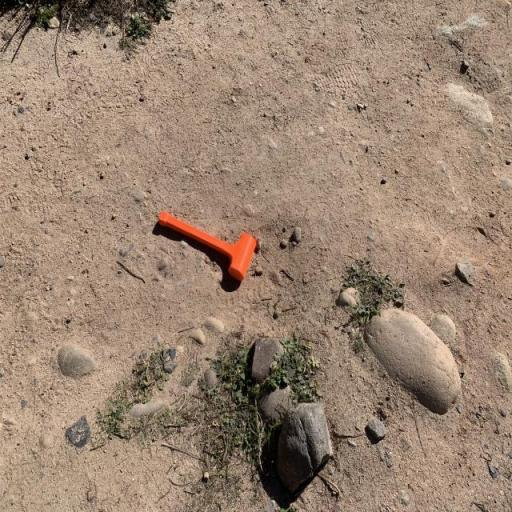mallet: (156, 207, 258, 284)
